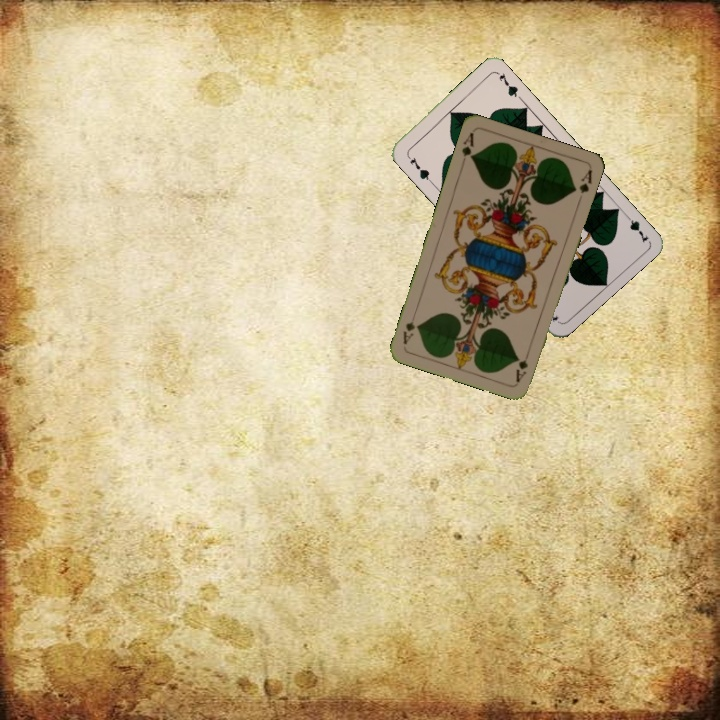G7: (620, 209, 651, 245), (403, 150, 434, 184)
GA: (457, 128, 477, 162), (512, 356, 530, 385)
